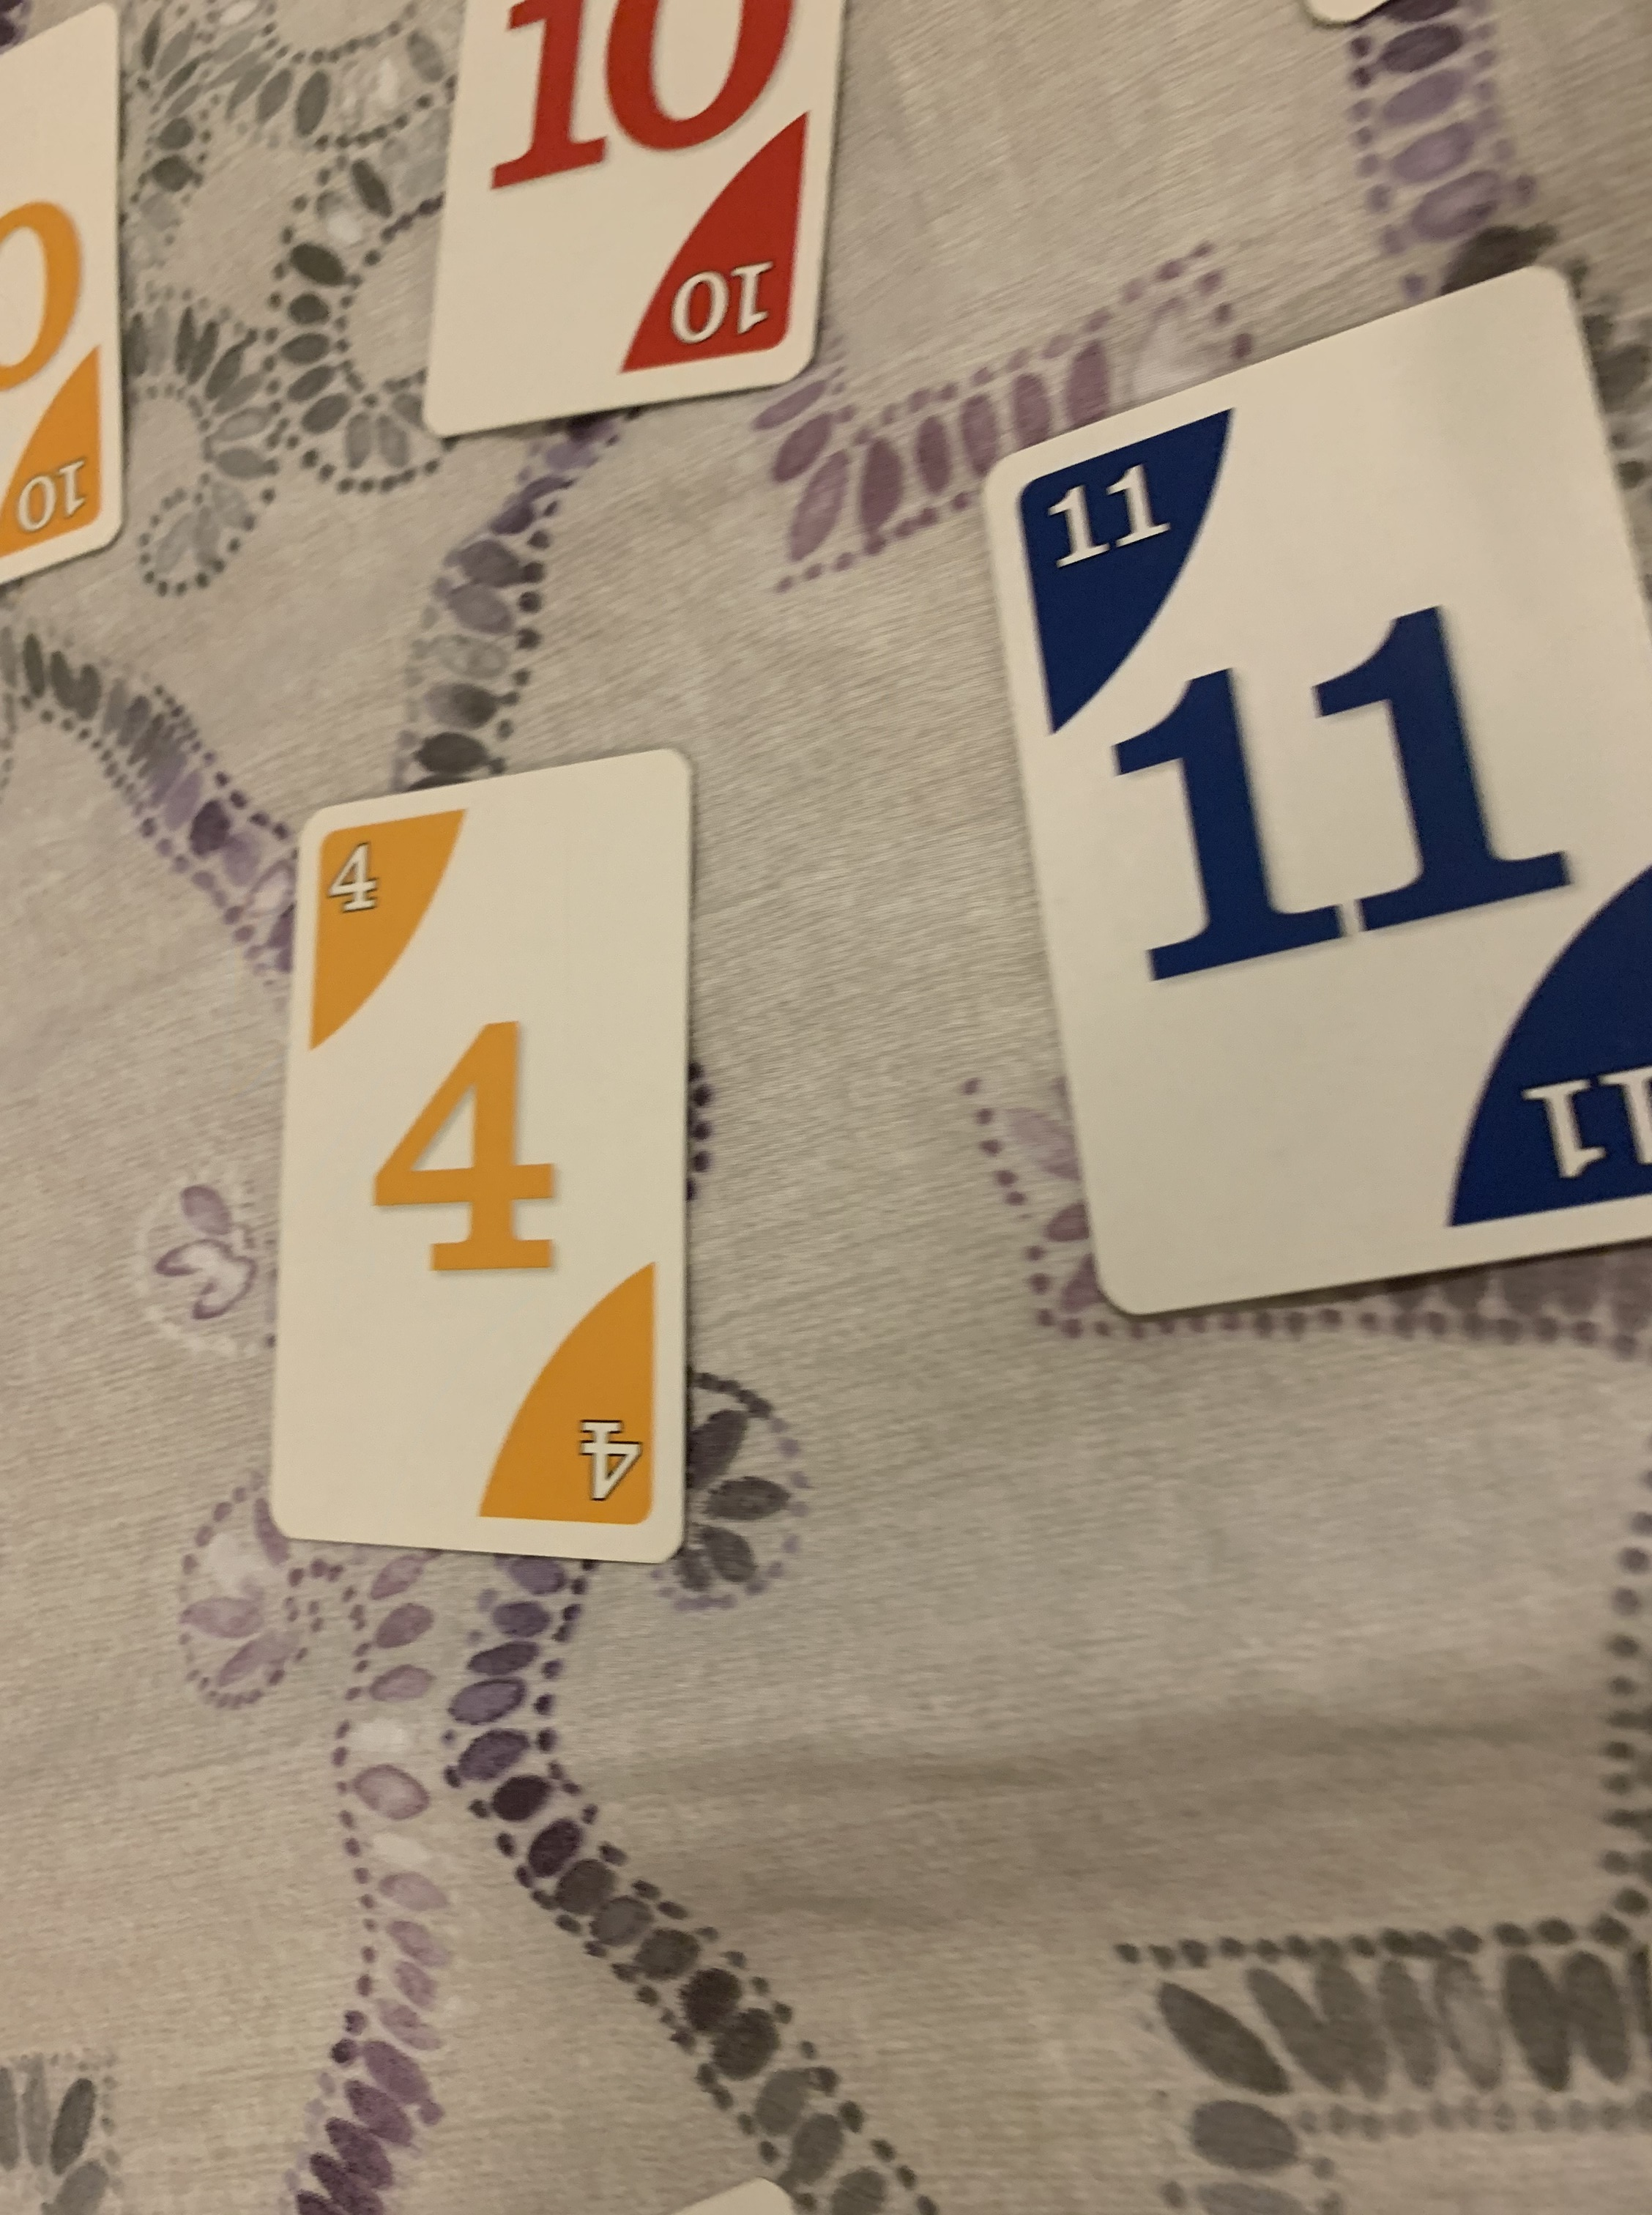eleven: (984, 259, 1652, 1328)
four: (257, 734, 711, 1573)
ten: (404, 0, 854, 436)
